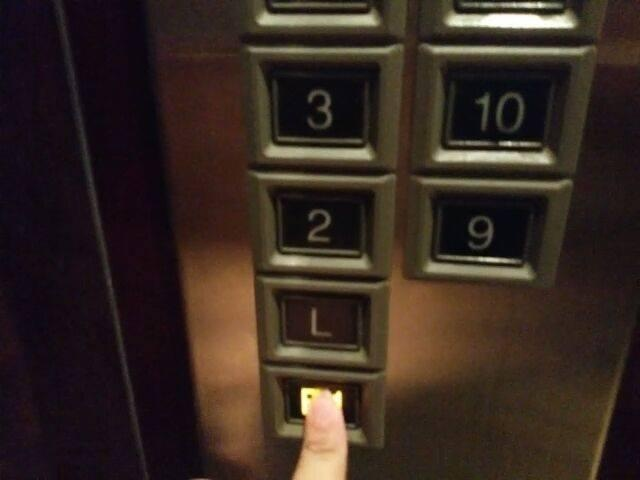10: (413, 40, 599, 179)
2: (248, 170, 393, 282)
3: (240, 43, 402, 170)
9: (407, 174, 575, 292)
L: (251, 278, 386, 369)
